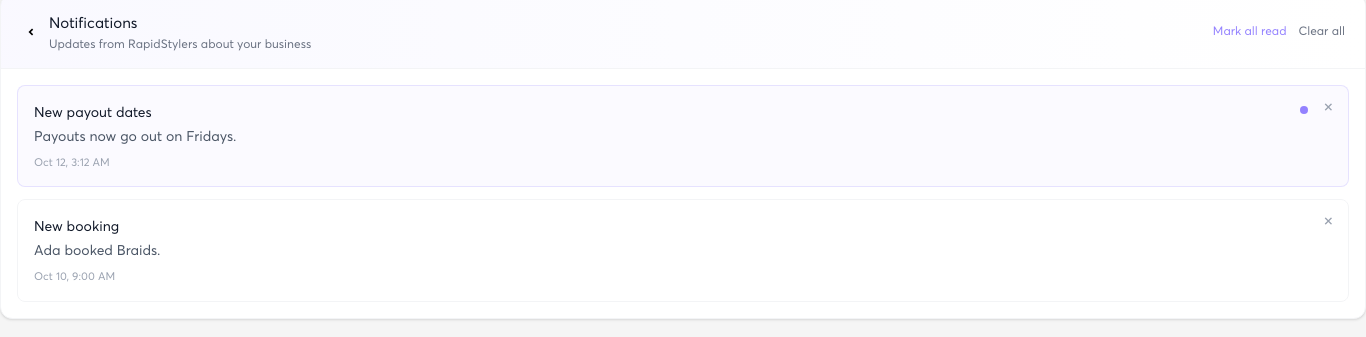
deletes one with a labelled control, and clears all after confirming, ending on the empty state
Check: the text "New payout dates" is shown, box [34, 102, 152, 120]
Click the button named "Delete this notification". click: [1328, 106]
box: [1316, 92, 1341, 118]
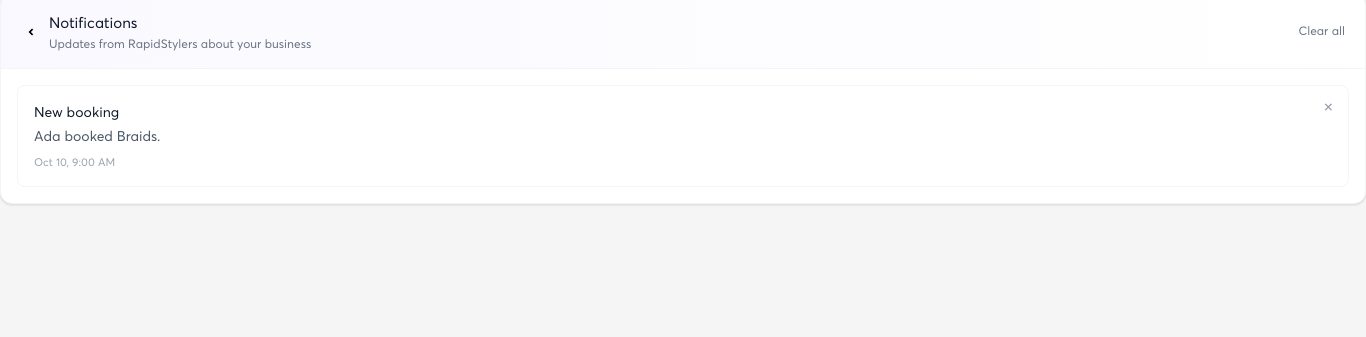
Check: the button "New payout dates" is gone
Click the button "Clear all". click: [1322, 31]
box: [1298, 23, 1345, 39]
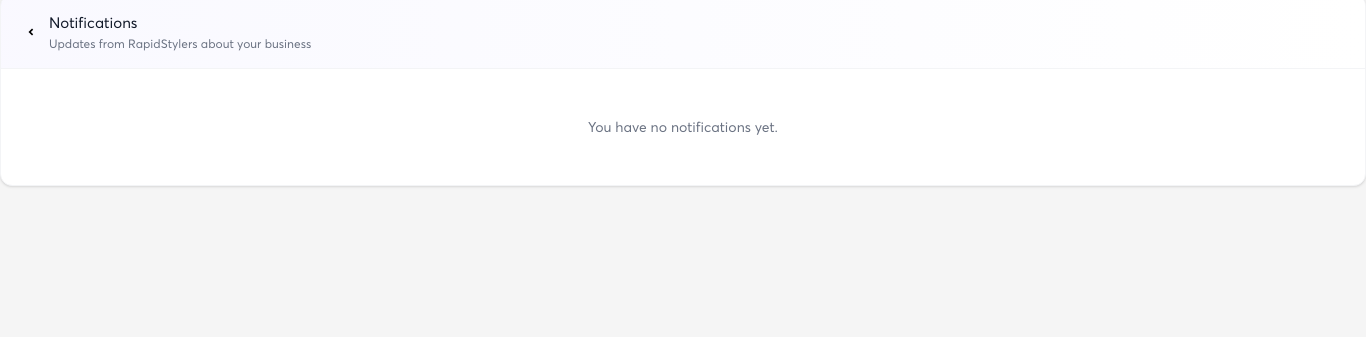
Check: the text "You have no notifications yet." is shown, box [588, 118, 778, 134]
